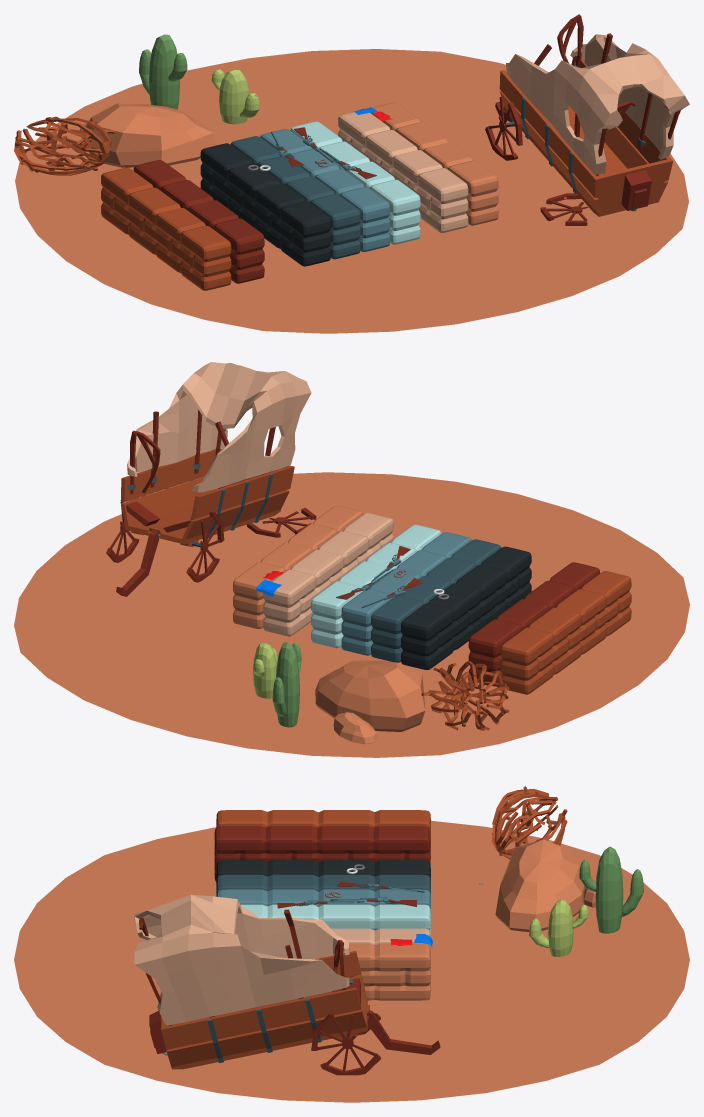
The model's file is palett-test_parents.fbx.
3 renders of one model, top to bottom at view 1: azimuth 30°, elevation 25°; view 2: azimuth 150°, elevation 25°; view 3: azimuth 270°, elevation 25°, orthographic. The views are drawn at different scales.
Parts seen in each view (by area): view 1: Bakke, Broken_roof, Cube Wood Light, Broken_floor, Cube Metal Black, Cube Offwhite, Rock Big, Cube Wood Dark, Cube Sand, Cube Metal Dark, Cube Metal Medium, Cube Metal Light (+7 smaller); view 2: Bakke, Broken_roof, Broken_floor, Cube Wood Light, Cube Metal Black, Cube Offwhite, Rock Big, Cube Wood Dark, Cube Metal Dark, Cube Sand, Cube Metal Light, Cube Metal Medium (+9 smaller); view 3: Bakke, Broken_roof, Broken_floor, Cube Wood Dark, Rock Big, Cube Sand, Cube Metal Light, Cube Wood Light, Cube Metal Dark, Cube Metal Black, Tumbleweed_V01, Cactus tall (+7 smaller).
Part boxes in pixels (x1,y1,x2,y2): Bakke: [15, 49, 688, 333]; Broken_roof: [506, 34, 689, 174]; Cube Wood Light: [101, 167, 231, 290]; Broken_floor: [499, 56, 672, 216]; Cube Metal Black: [200, 143, 330, 266]; Cube Offwhite: [338, 112, 468, 232]; Rock Big: [81, 103, 216, 167]; Cube Wood Dark: [133, 160, 264, 283]; Cube Sand: [371, 102, 498, 225]; Cube Metal Dark: [230, 136, 360, 259]; Cube Metal Medium: [260, 129, 390, 251]; Cube Metal Light: [290, 121, 420, 244]; Bakke: [14, 472, 689, 757]; Broken_roof: [127, 362, 311, 492]; Broken_floor: [120, 448, 294, 544]; Cube Wood Light: [500, 571, 631, 694]; Cube Metal Black: [401, 546, 531, 669]; Cube Offwhite: [263, 513, 393, 636]; Rock Big: [315, 660, 425, 731]; Cube Wood Dark: [468, 562, 599, 682]; Cube Metal Dark: [371, 539, 501, 662]; Cube Sand: [233, 505, 363, 628]; Cube Metal Light: [311, 524, 441, 648]; Cube Metal Medium: [341, 532, 471, 655]; Bakke: [14, 820, 689, 1102]; Broken_roof: [134, 894, 349, 1025]; Broken_floor: [161, 950, 369, 1069]; Cube Wood Dark: [214, 826, 430, 881]; Rock Big: [495, 839, 585, 931]; Cube Sand: [313, 943, 430, 1000]; Cube Metal Light: [241, 904, 430, 936]; Cube Wood Light: [216, 810, 430, 863]; Cube Metal Dark: [216, 874, 430, 897]; Cube Metal Black: [216, 860, 430, 883]; Tumbleweed_V01: [491, 786, 567, 859]; Cactus tall: [579, 846, 643, 933].
Size of the model in its own units: 957 by 257 by 957.
